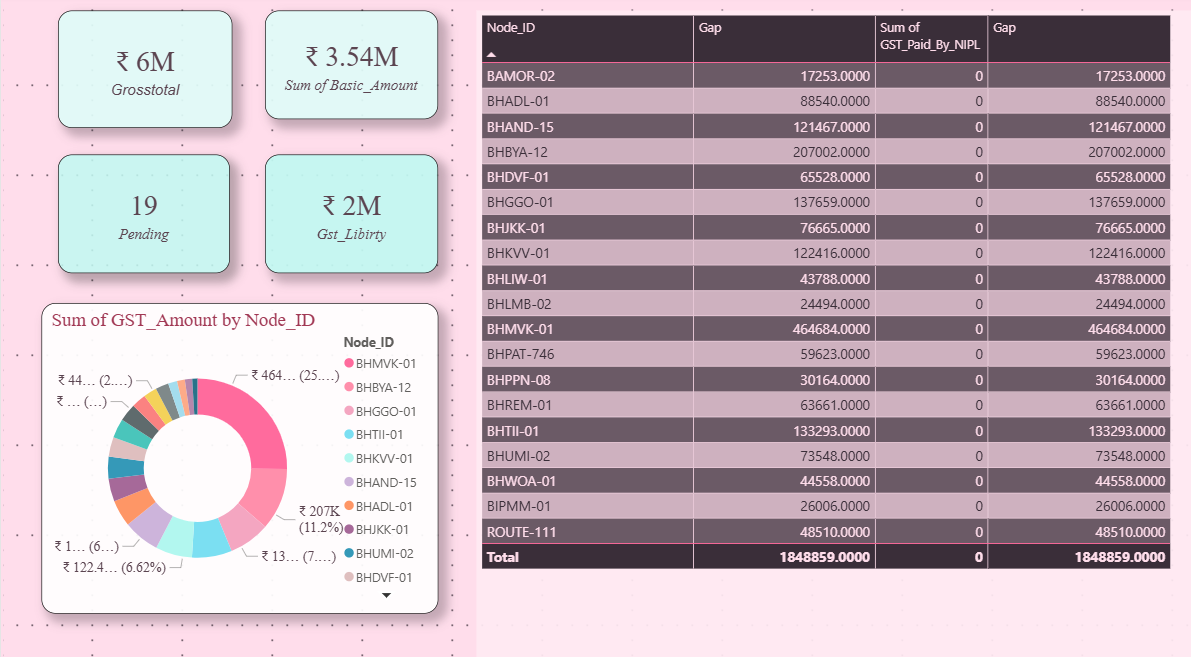

What the dashboard file says about the page in this screenshot:
{"tool":"powerbi","page":{"name":"Page 2","canvas":[1280,720],"ordinal":1},"visuals":[{"type":"card","fields":{"Values":["Sum(Invoice_Data.Basic_Amount)"]},"box":[281.8,17.2,184.6,115.7],"z":0},{"type":"card","fields":{"Values":["GST_Data.Gst_Libirty"]},"box":[281.8,171.1,184.6,126.8],"z":1000},{"type":"card","fields":{"Values":["GST_Data.grosstotal"]},"box":[60.3,17.2,185.8,125.5],"z":2000},{"type":"card","fields":{"Values":["GST_Data.Pending"]},"box":[60.3,171.1,183.4,126.8],"z":3000},{"type":"donutChart","fields":{"Category":["GST_Data.Node_ID"],"Y":["Sum(GST_Data.GST_Amount)"]},"box":[43.1,329.8,423.4,331.1],"z":4000},{"type":"tableEx","fields":{"Values":["GST_Data.Node_ID","GST_Data.Gst_Libirty","Sum(GST_Data.GST_Paid_By_NIPL)","GST_Data.Gst_Libirty"]},"box":[507.1,17.2,772.9,702.8],"z":6000}]}

Visuals, with their boxes in screenshot pixels (x1, y1, x2, y2), scaled from the page's 1280x720 canvas onto the 1191x657 screenshot:
card - Sum(Invoice_Data.Basic_Amount): locate(262, 16, 434, 121)
card - GST_Data.Gst_Libirty: locate(262, 156, 434, 272)
card - GST_Data.grosstotal: locate(56, 16, 229, 130)
card - GST_Data.Pending: locate(56, 156, 227, 272)
donutChart - GST_Data.Node_ID x Sum(GST_Data.GST_Amount): locate(40, 301, 434, 603)
tableEx - GST_Data.Node_ID x GST_Data.Gst_Libirty: locate(472, 16, 1190, 656)
